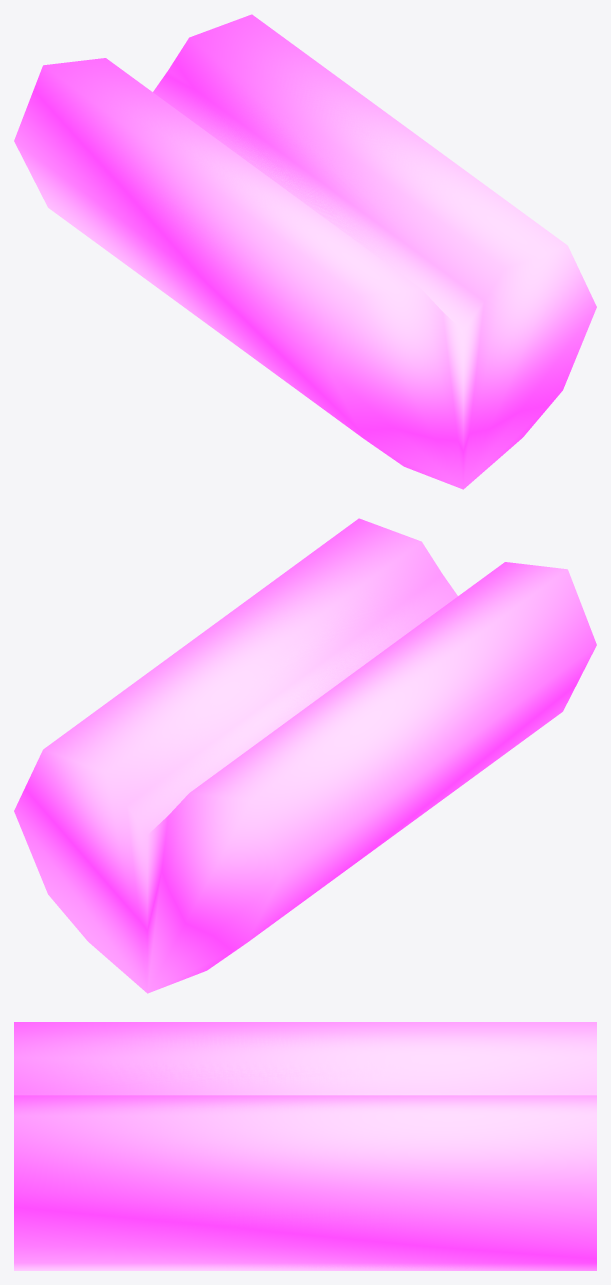
Rendered from tempheartbeam.fbx.
The picture shows the model from 3 angles, top to bottom: view 1: azimuth 30°, elevation 25°; view 2: azimuth 150°, elevation 25°; view 3: azimuth 270°, elevation 25°; orthographic projection. The views are drawn at different scales.
Visible parts, largest first — view 1: Cube; view 2: Cube; view 3: Cube.
Part boxes in pixels (x1,y1,x2,y2): Cube: [14, 14, 596, 489]; Cube: [14, 518, 596, 993]; Cube: [14, 1022, 596, 1270].
Bounding box in the file's own units: 256 × 200 × 524.
